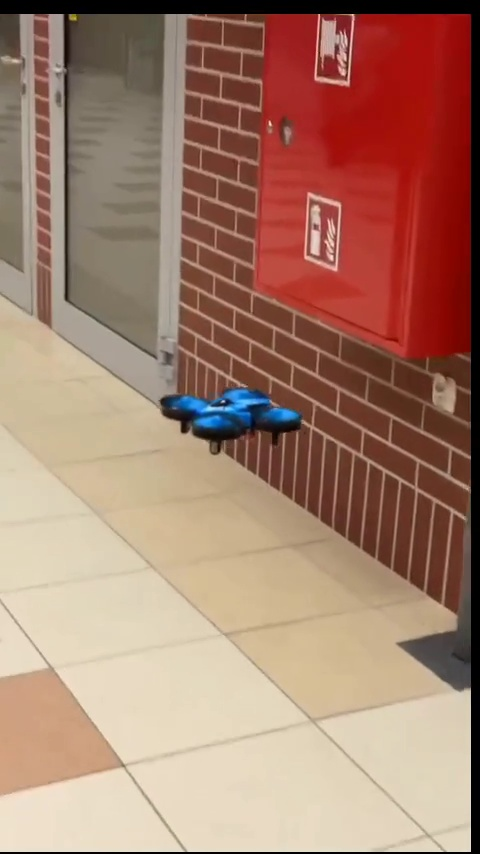drone: (157, 386, 308, 455)
